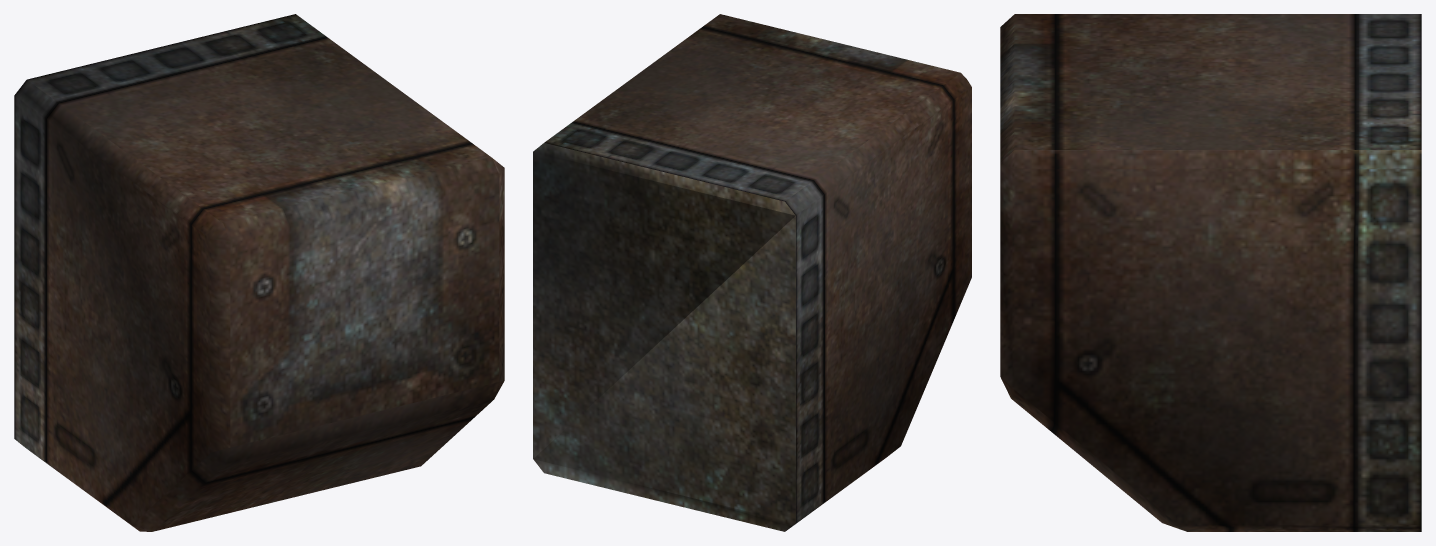
File: living_area_welder_end_overgrown.dae
The picture shows the model from 3 angles, left to right: view 1: azimuth 30°, elevation 25°; view 2: azimuth 150°, elevation 25°; view 3: azimuth 270°, elevation 25°; orthographic projection. The views are drawn at different scales.
Parts seen in each view (by area): view 1: polySurface1; view 2: polySurface1; view 3: polySurface1.
Part boxes in pixels (<box>): polySurface1: <box>14,14,504,531</box>; polySurface1: <box>533,14,971,531</box>; polySurface1: <box>1000,14,1421,531</box>.
Size of the model in its own units: 0.832 by 1 by 1.
